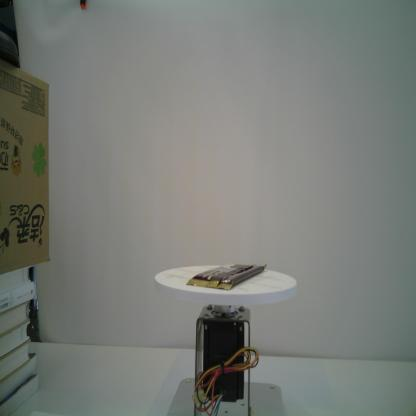Chocolate: (186, 262, 269, 294)
